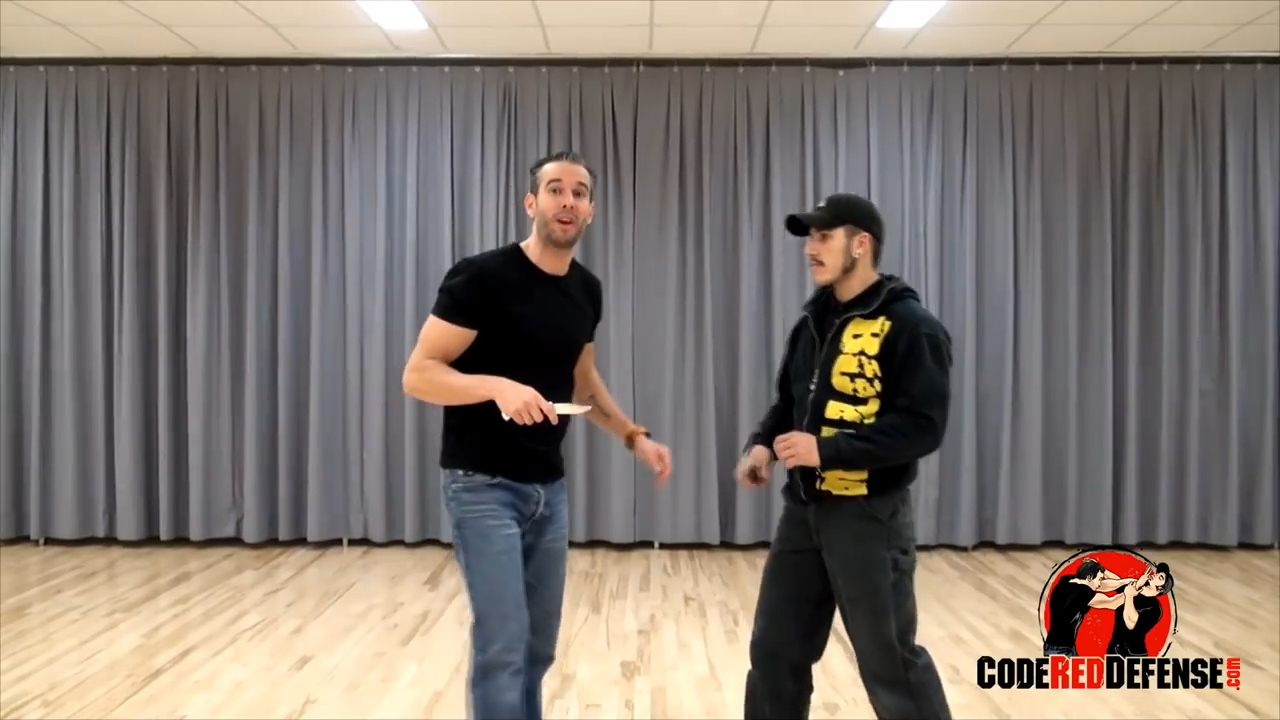knife: (498, 388, 598, 428)
